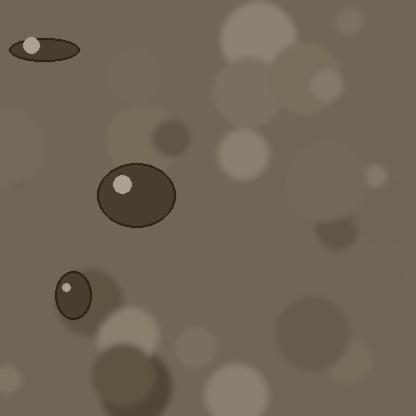gota: (97, 165, 175, 233), (55, 273, 91, 323), (9, 39, 79, 63)
